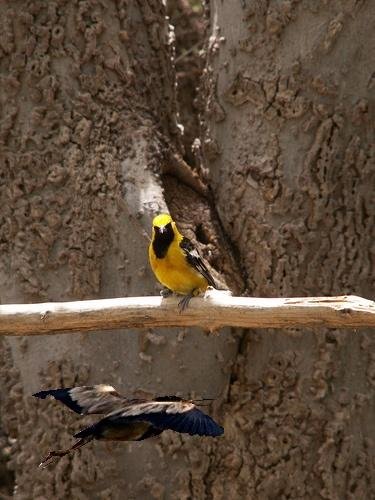tampered: (33, 385, 224, 468)
